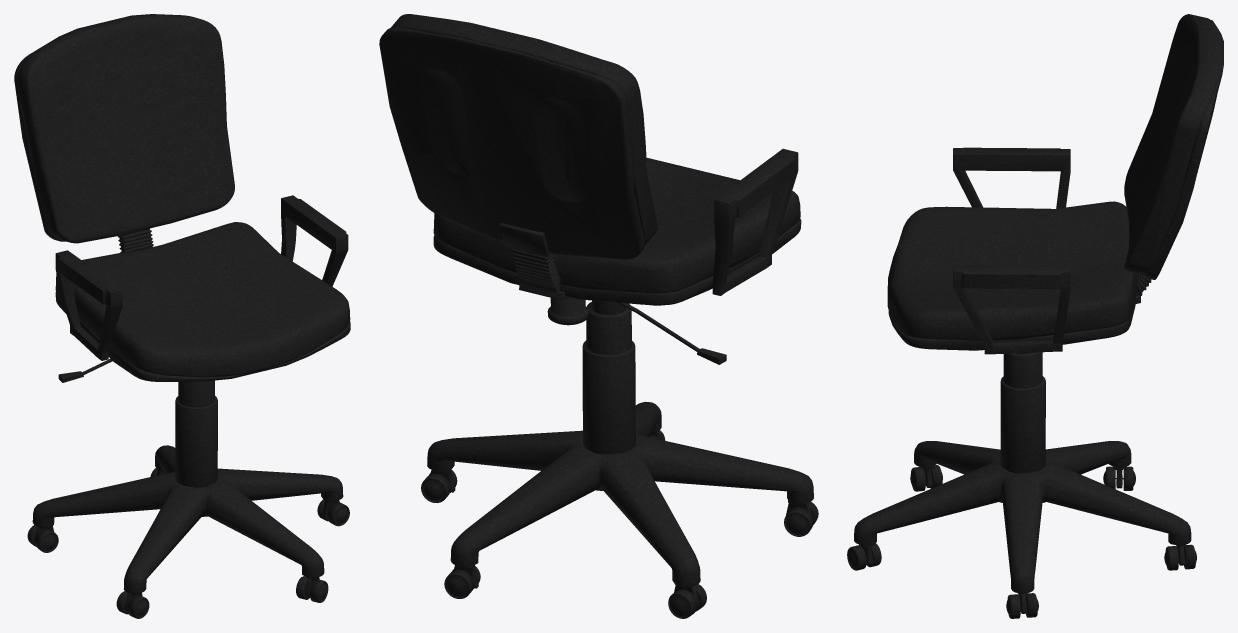
The model's file is officeChair.fbx.
3 views of the same model, side by side, from view 1: azimuth 30°, elevation 25°; view 2: azimuth 150°, elevation 25°; view 3: azimuth 270°, elevation 25° (orthographic). The views are drawn at different scales.
Visible parts, largest first — view 1: Office_chair; view 2: Office_chair; view 3: Office_chair.
Boxes of the visible parts, x1,y1,x2,y2 form: Office_chair: (14,14,350,618); Office_chair: (379,14,818,618); Office_chair: (847,14,1223,618).
Size of the model in its own units: 1.36 by 2.26 by 1.55.
Materials: 1 (1 with a texture image).
